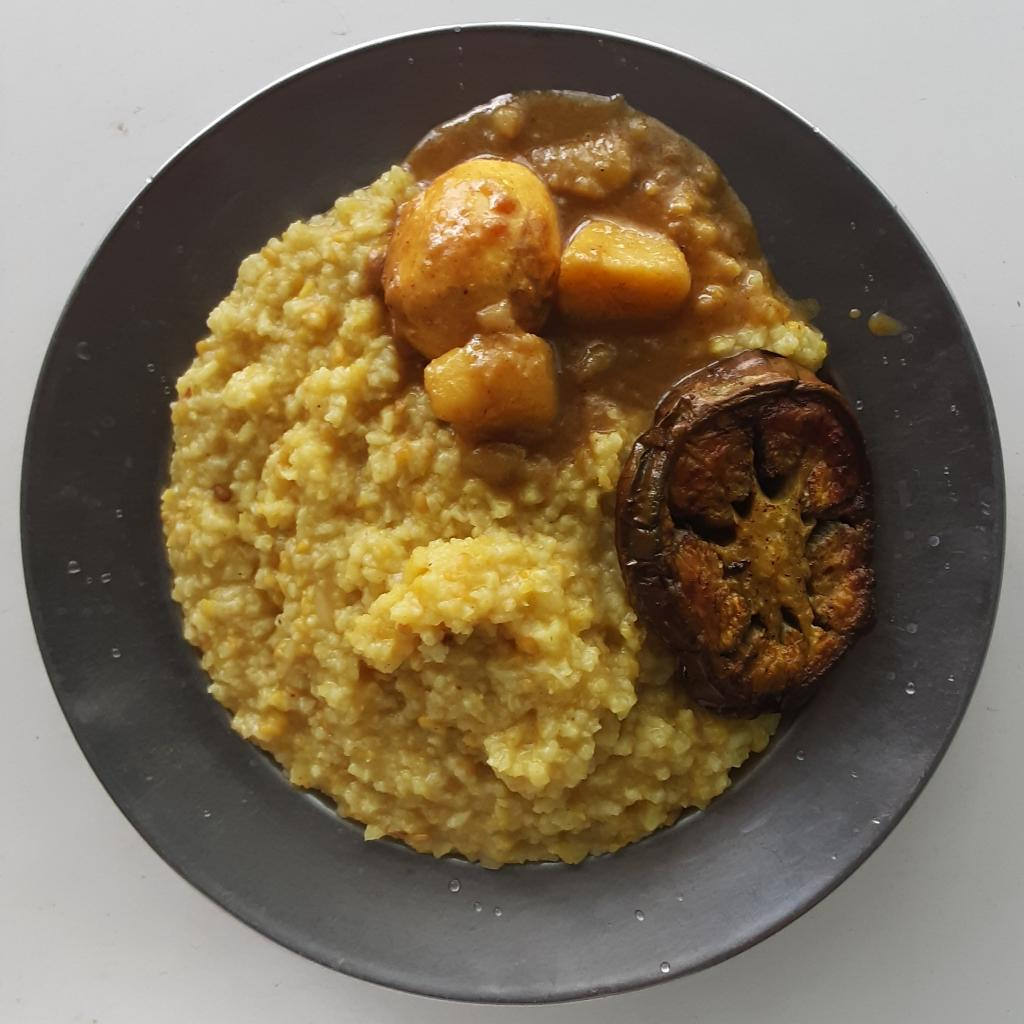begun-vaji: (615, 347, 877, 710)
egg-boiled: (381, 156, 563, 357)
khichuri: (161, 170, 774, 870)
potato: (401, 84, 779, 430)
